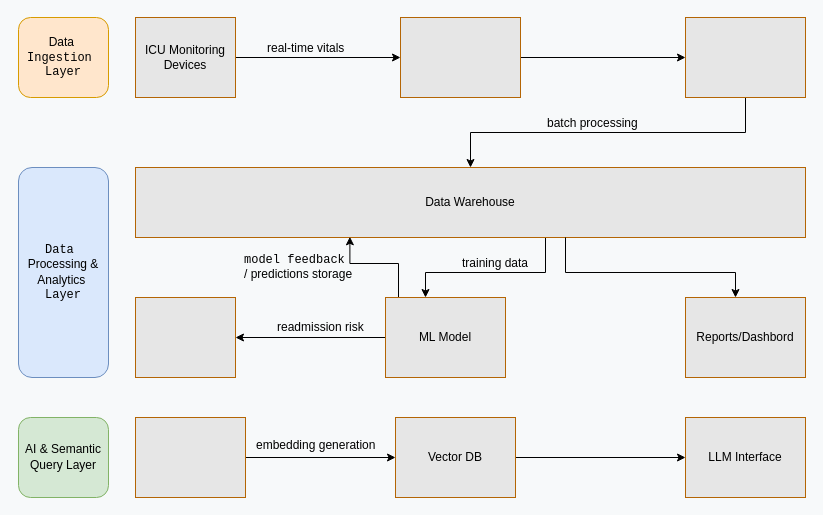
Image size: 823x515. Some labels were removed from this diagram. Here are the shapes that lost their labels. From the top down, the centre of each, then its label:
At point (460, 57): "Streaming Layer (Kafka / Event Streaming)".
At point (745, 57): "Data Lake".
At point (185, 337): "Predictions".
At point (190, 457): "Online Transaction Processing (OLTP) Database (Patient Records)".
